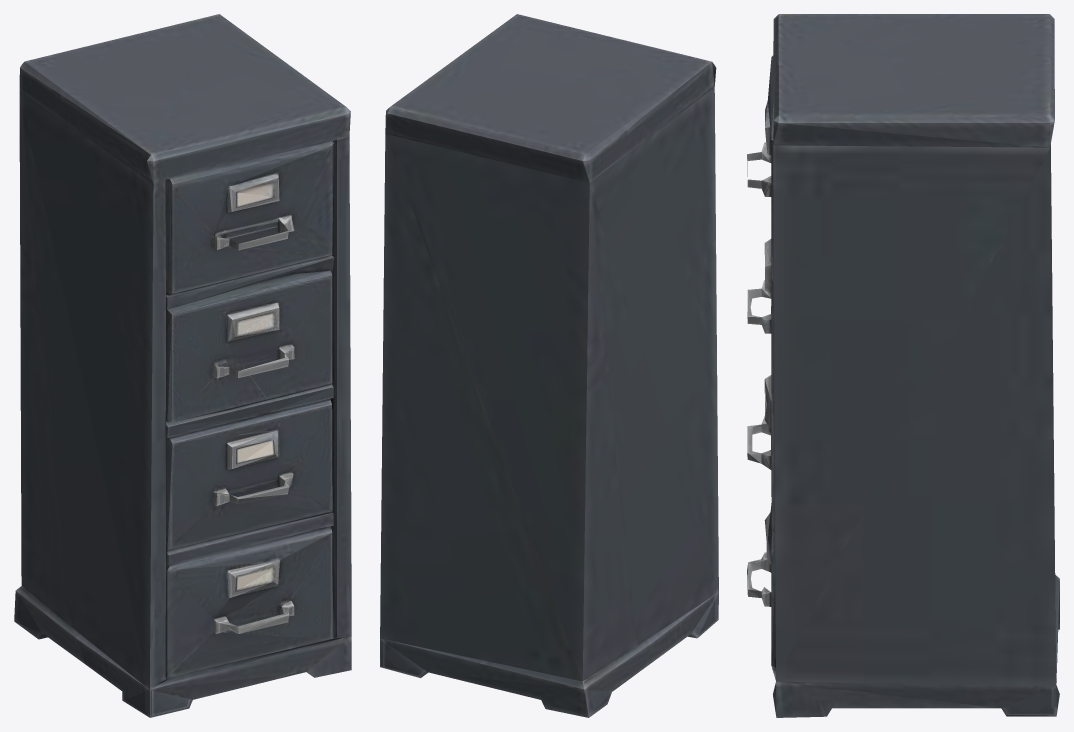
Rendered from arquivo_aco.glb.
3 renders of one model, left to right at view 1: azimuth 30°, elevation 25°; view 2: azimuth 150°, elevation 25°; view 3: azimuth 270°, elevation 25°, orthographic. The views are drawn at different scales.
Parts seen in each view (by area): view 1: Mesh_0; view 2: Mesh_0; view 3: Mesh_0.
Part boxes in pixels (x1,y1,x2,y2): Mesh_0: (14, 14, 351, 717); Mesh_0: (380, 14, 718, 717); Mesh_0: (747, 14, 1059, 717).
Bounding box in the file's own units: 0.5253 × 1.35 × 0.6374.
1 material, 1 textured.
